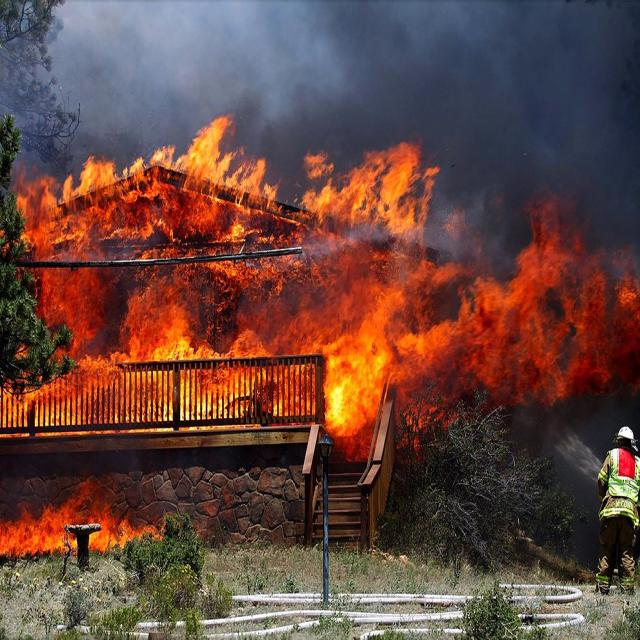Fire: (11, 186, 626, 445), (4, 503, 169, 557)
Smoke: (126, 39, 628, 249)
